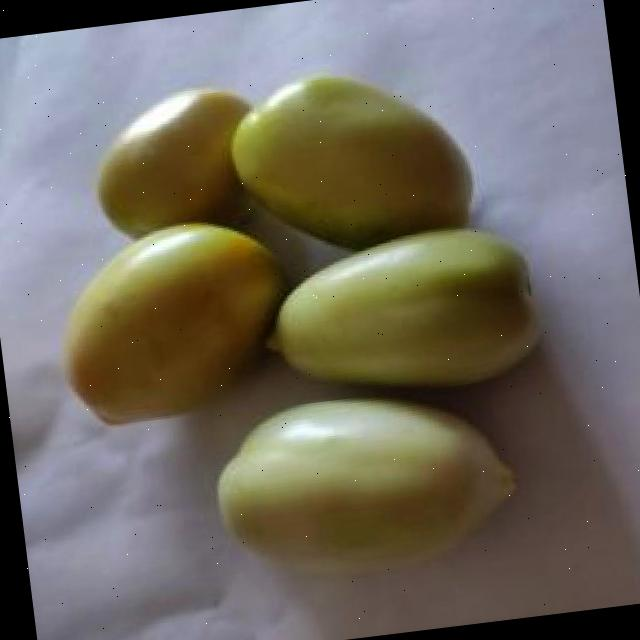tomato: (215, 394, 518, 573), (63, 223, 284, 431), (260, 226, 544, 386), (228, 70, 474, 254), (96, 86, 256, 242)
